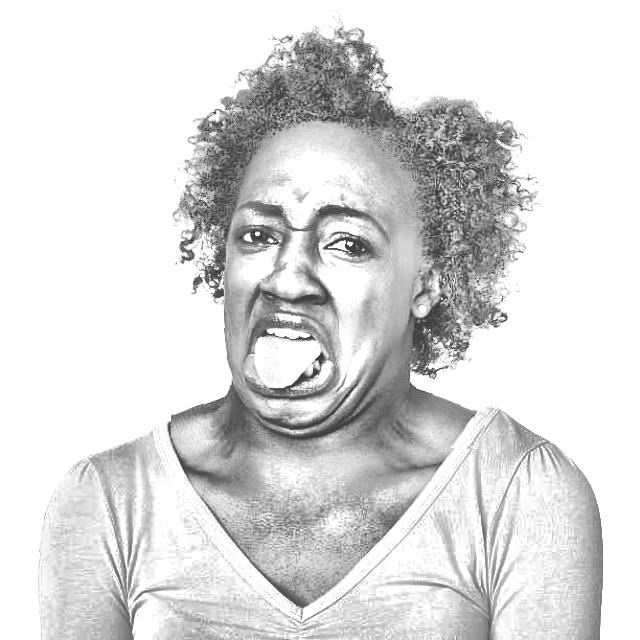disgust: (175, 40, 495, 446)
